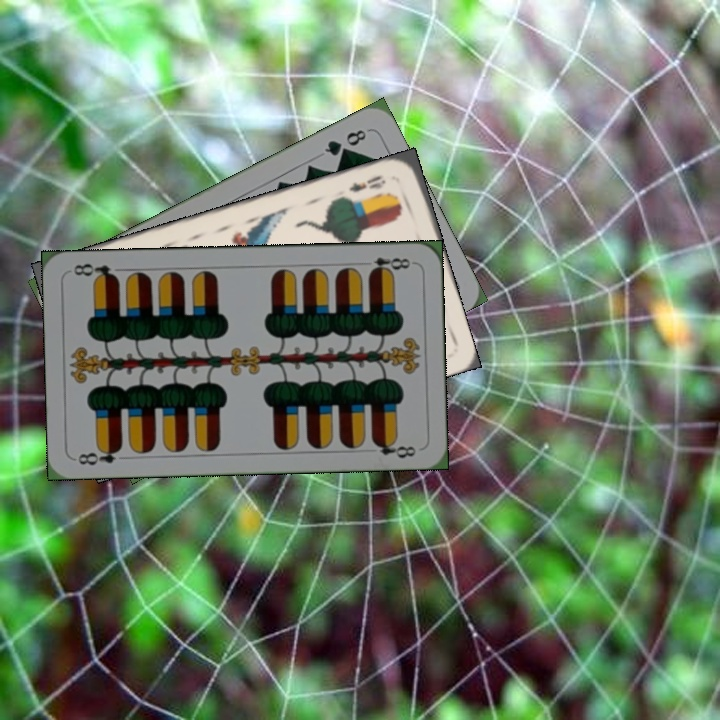E8: (357, 253, 416, 276), (74, 442, 125, 468)
EO: (345, 171, 388, 195)
G8: (320, 125, 369, 159)
